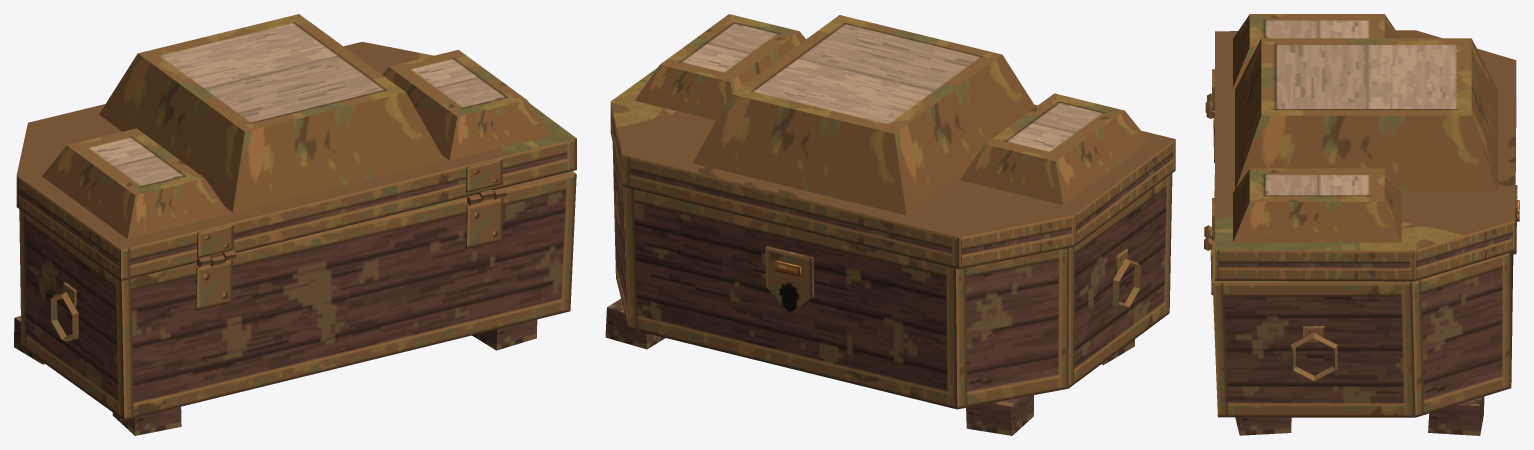
The model's file is SM_CH05_Legendary.fbx.
3 views of the same model, side by side, from view 1: azimuth 30°, elevation 25°; view 2: azimuth 150°, elevation 25°; view 3: azimuth 270°, elevation 25° (orthographic). The views are drawn at different scales.
Visible parts, largest first — view 1: CH05_Lid, CH05_Body; view 2: CH05_Lid, CH05_Body; view 3: CH05_Lid, CH05_Body.
Part boxes in pixels (<box>): CH05_Lid: <box>16,14,576,280</box>; CH05_Body: <box>14,171,576,435</box>; CH05_Lid: <box>610,14,1175,269</box>; CH05_Body: <box>605,142,1172,435</box>; CH05_Lid: <box>1205,14,1516,281</box>; CH05_Body: <box>1204,93,1519,435</box>.
Bounding box in the file's own units: 1.49 × 0.8085 × 0.8815.
